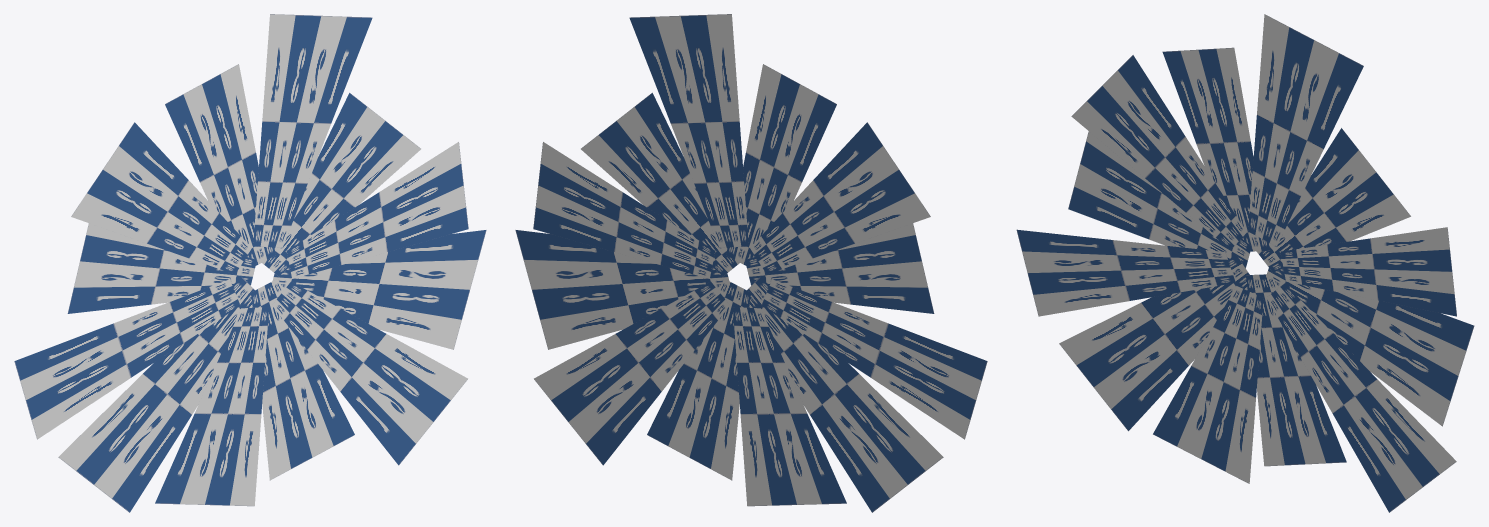
File: Shinobu_Spl_Spark.fbx
3 renders of one model, left to right at view 1: azimuth 30°, elevation 25°; view 2: azimuth 150°, elevation 25°; view 3: azimuth 330°, elevation 25°, orthographic. The views are drawn at different scales.
Parts seen in each view (by area): view 1: SM_d_e_P0011_V00_C00_SplTwm_Wave_01; view 2: SM_d_e_P0011_V00_C00_SplTwm_Wave_01; view 3: SM_d_e_P0011_V00_C00_SplTwm_Wave_01.
Part boxes in pixels (x1,y1,x2,y2): SM_d_e_P0011_V00_C00_SplTwm_Wave_01: (14, 14, 486, 512); SM_d_e_P0011_V00_C00_SplTwm_Wave_01: (515, 14, 987, 512); SM_d_e_P0011_V00_C00_SplTwm_Wave_01: (1016, 14, 1474, 512).
Bounding box in the file's own units: 58.71 × 58.04 × 3.55e-15.
